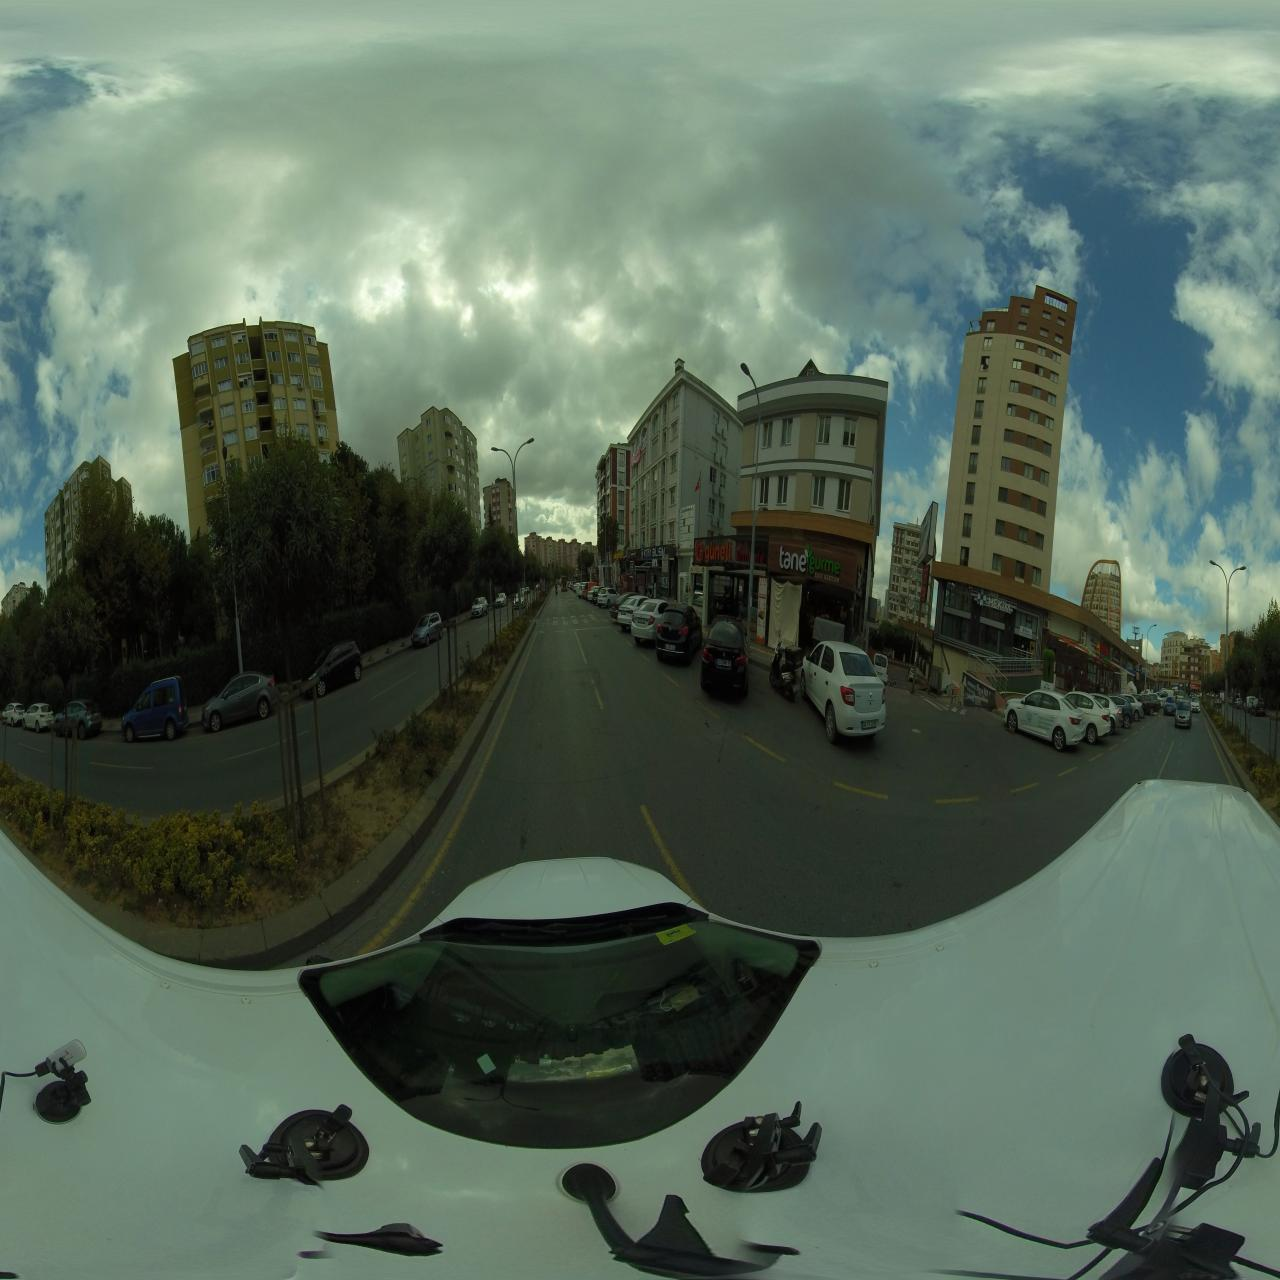SignStore: (777, 538, 847, 586), (704, 536, 751, 568), (640, 545, 666, 560), (613, 550, 624, 560)
